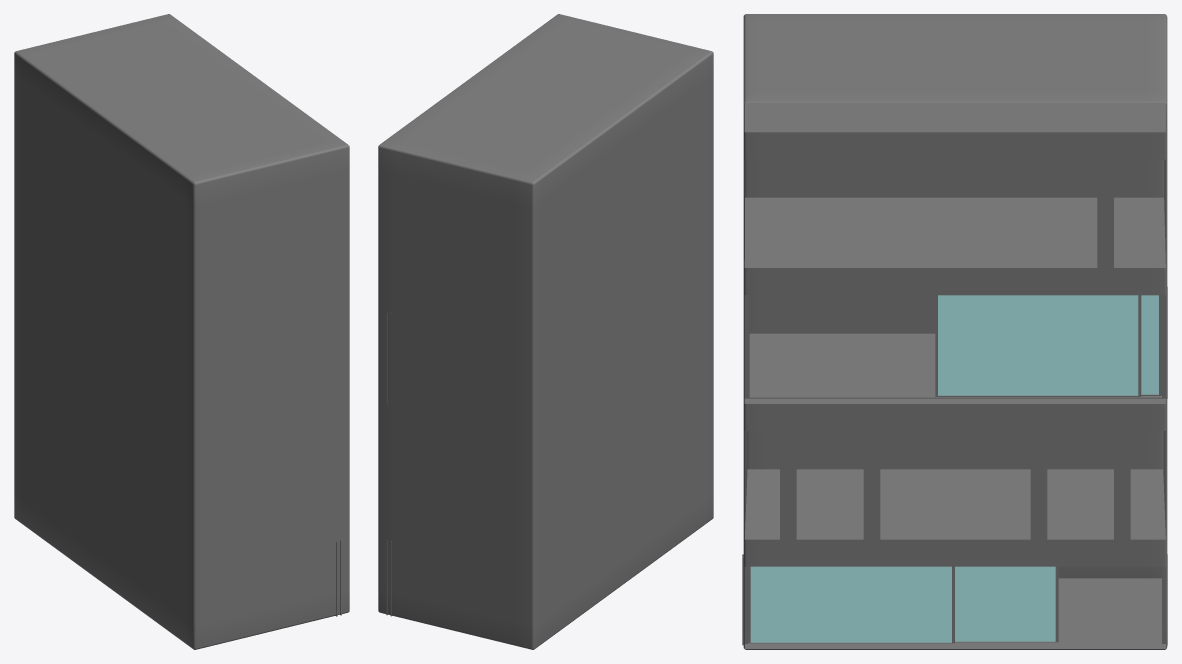
File: JM_Bookshelf.fbx
3 renders of one model, left to right at view 1: azimuth 30°, elevation 25°; view 2: azimuth 150°, elevation 25°; view 3: azimuth 270°, elevation 25°, orthographic. The views are drawn at different scales.
Visible parts, largest first — view 1: Bookshelf_W_Glass_Sliding_Doors001; view 2: Bookshelf_W_Glass_Sliding_Doors001; view 3: Bookshelf_W_Glass_Sliding_Doors001, SlidingWindow003, SlidingWindow004.
Part boxes in pixels (bbox=[...]): Bookshelf_W_Glass_Sliding_Doors001: bbox=[14, 14, 349, 649]; Bookshelf_W_Glass_Sliding_Doors001: bbox=[378, 14, 713, 649]; Bookshelf_W_Glass_Sliding_Doors001: bbox=[743, 14, 1167, 649]; SlidingWindow003: bbox=[744, 287, 1167, 398]; SlidingWindow004: bbox=[742, 554, 1167, 645].
Size of the model in its own units: 276 by 789 by 555.
